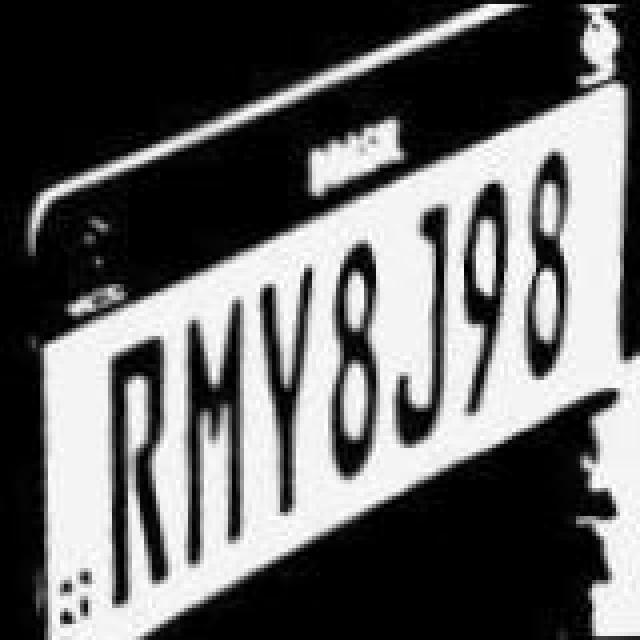8: (506, 142, 582, 378), (320, 236, 388, 480)
9: (452, 172, 524, 412)
J: (378, 206, 462, 446)
M: (170, 292, 254, 568)
R: (98, 334, 182, 606)
Y: (248, 260, 324, 516)
